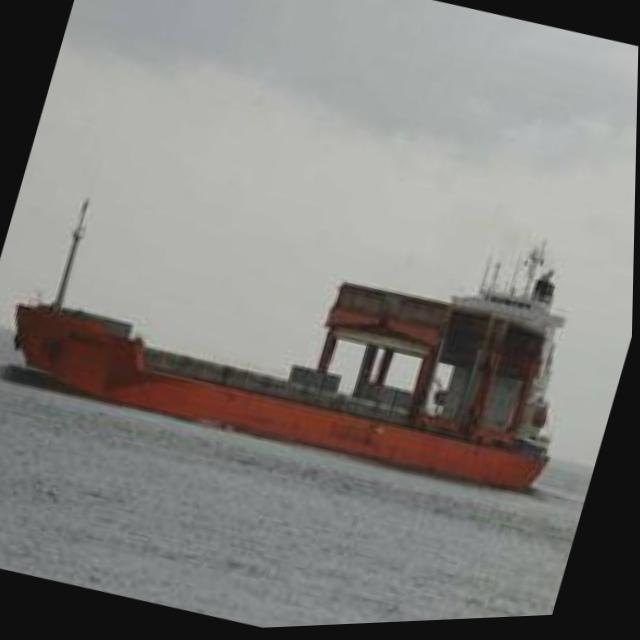ship2: (12, 199, 569, 500)
